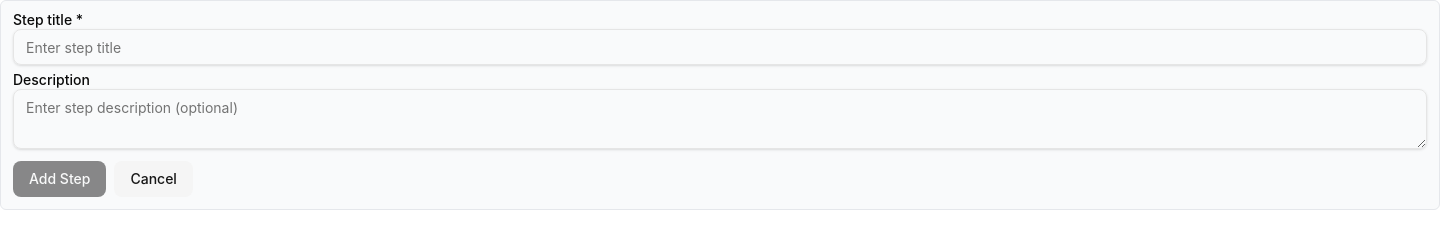
StepEditor › disables submit button when title is empty
Expected: the button "Add Step" is disabled, [13,161,106,197]
Step 1. Type "Some title" into the field labelled "Step title *" → (720, 47), box [13,29,1427,65]
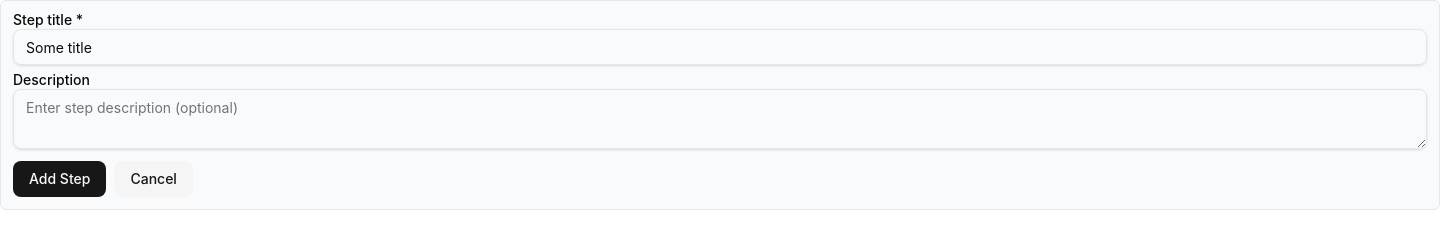
Now the button "Add Step" is enabled, box [13,161,106,197]
